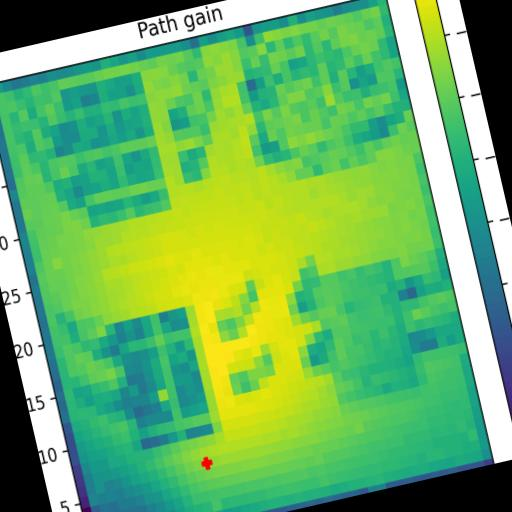Concrete: (256, 25, 378, 182)
Glass: (60, 70, 173, 228)
Metal: (310, 257, 429, 405)
Wood: (105, 306, 224, 452)
